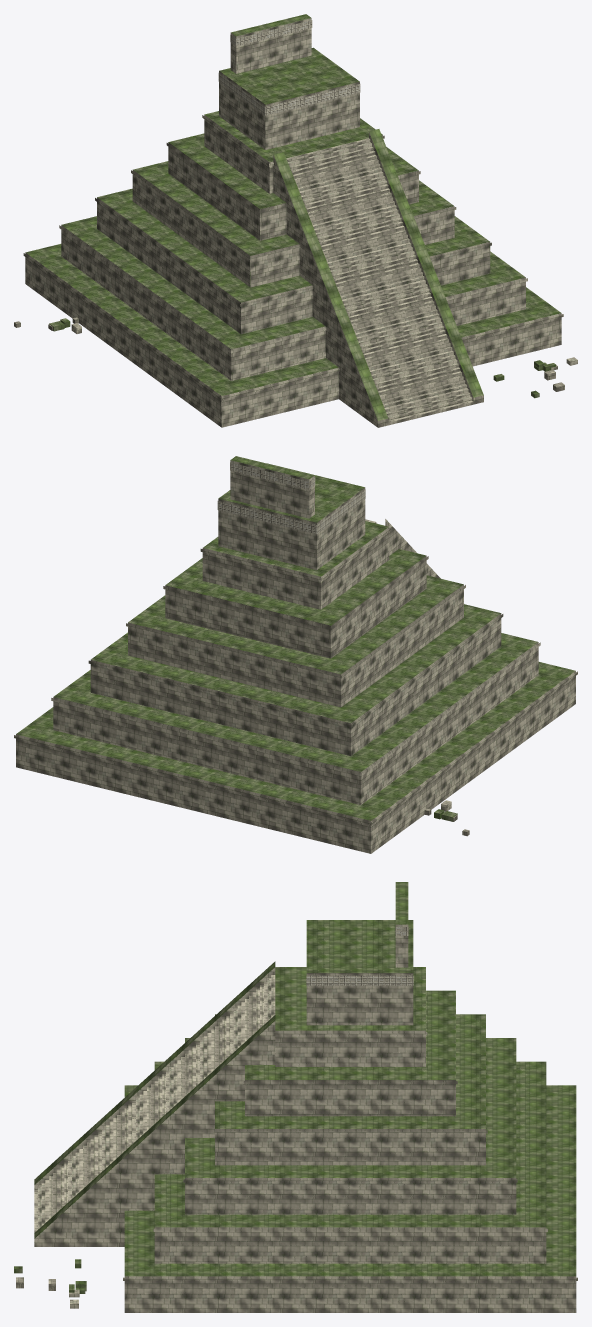
The model's file is ruin-pyramid.zfix-v6.lod1.glb.
3 views of the same model, one above another, from view 1: azimuth 30°, elevation 25°; view 2: azimuth 150°, elevation 25°; view 3: azimuth 270°, elevation 25° (orthographic). The views are drawn at different scales.
Visible parts, largest first — view 1: ruin-pyramid; view 2: ruin-pyramid; view 3: ruin-pyramid.
Boxes of the visible parts, x1=… form: ruin-pyramid: x1=14, y1=14, x2=577, y2=427; ruin-pyramid: x1=14, y1=456, x2=577, y2=853; ruin-pyramid: x1=14, y1=882, x2=577, y2=1312.
Bounding box in the file's own units: 41.61 × 27.6 × 44.93.
Materials: 3 (3 with a texture image).
